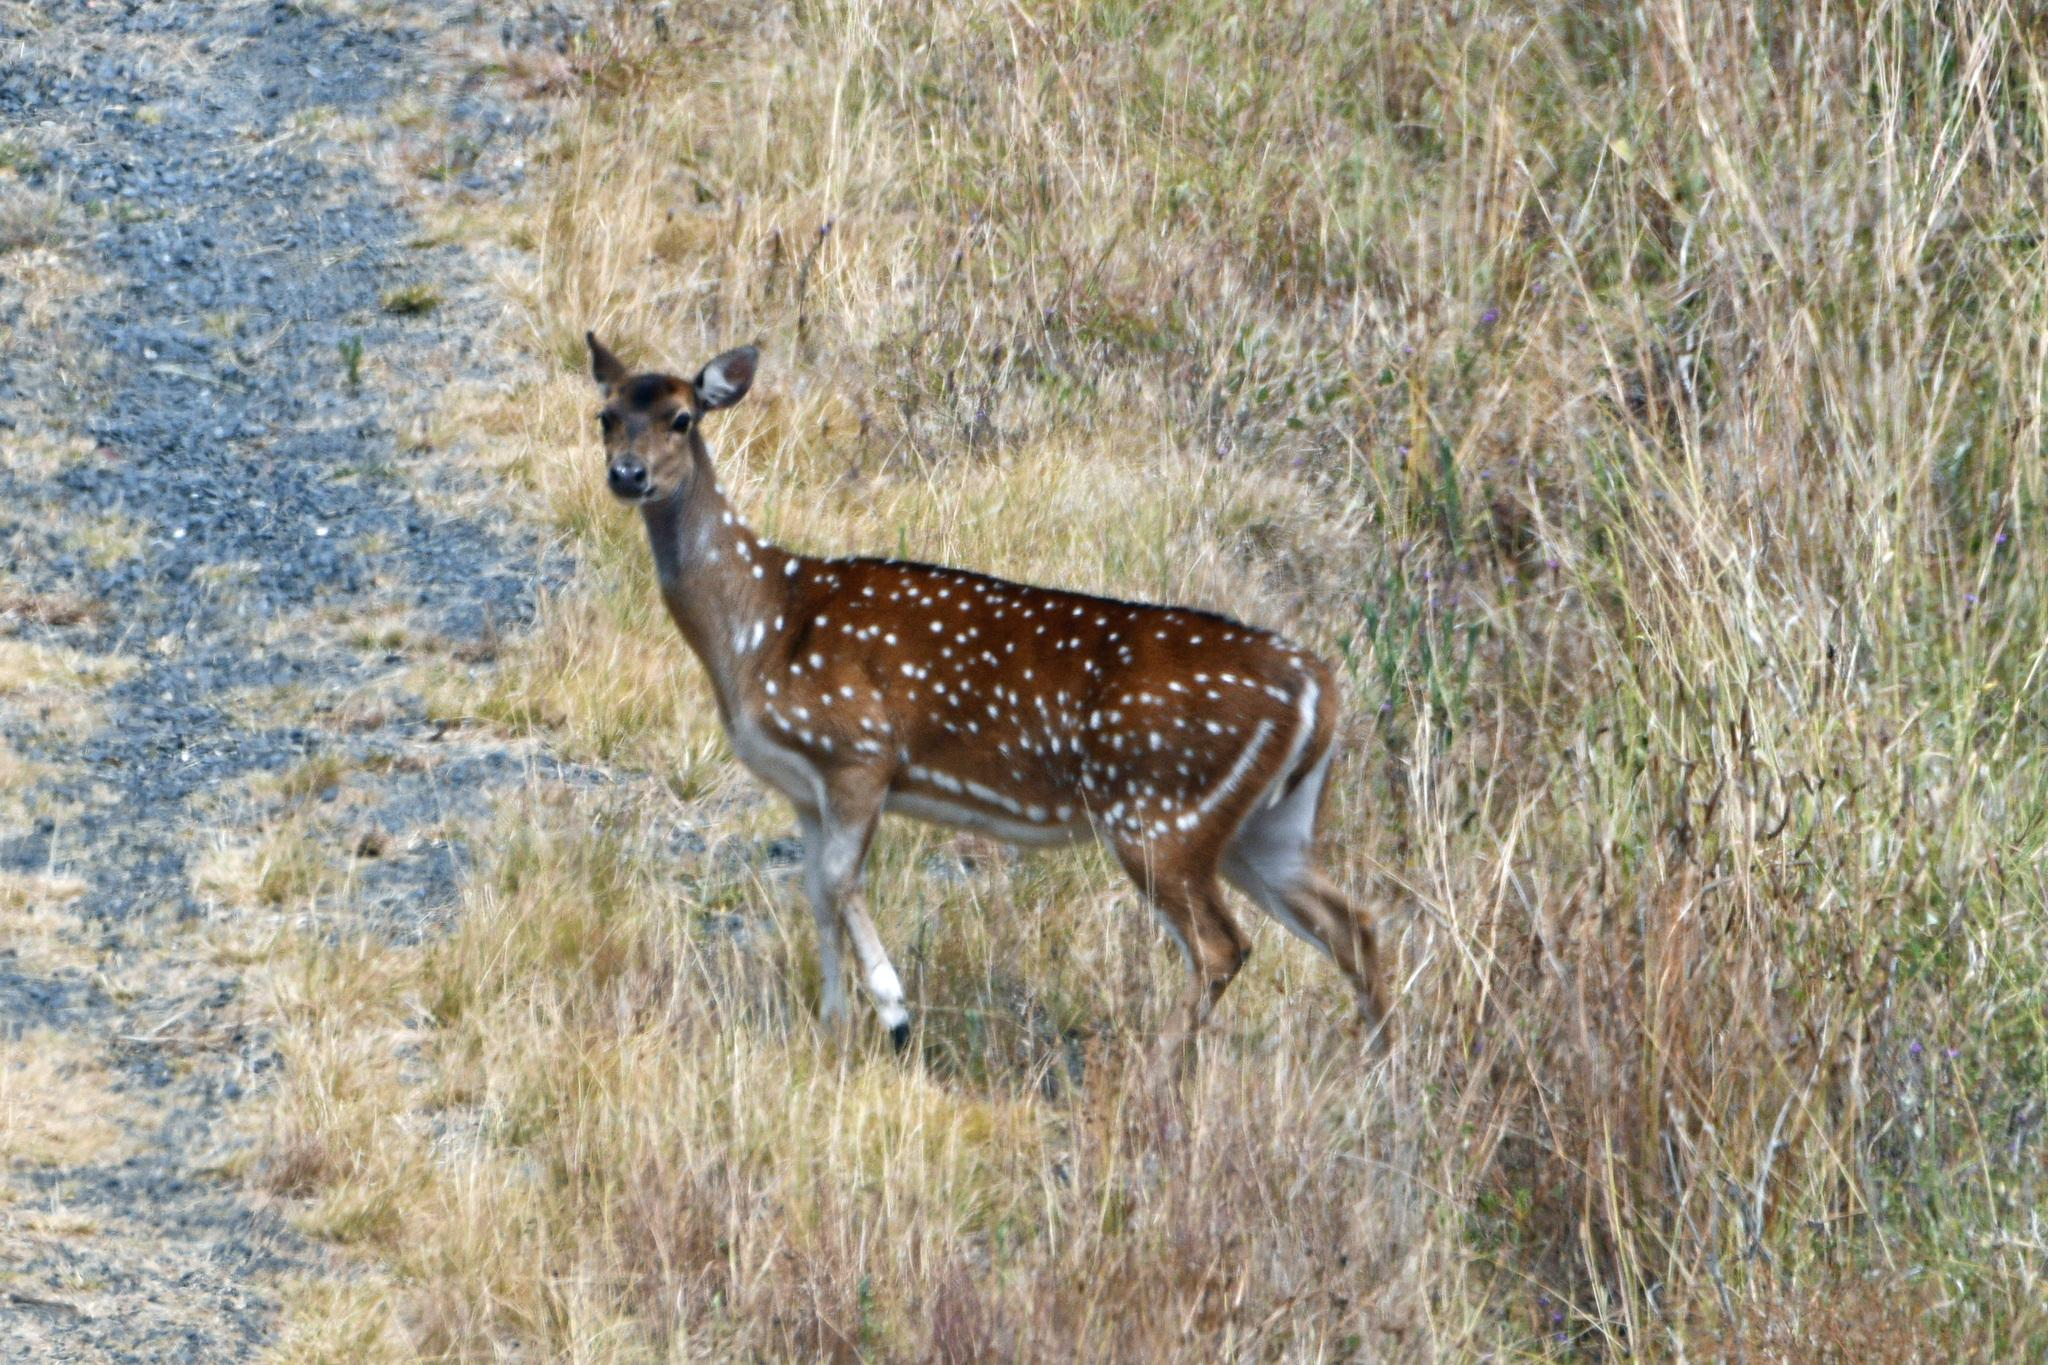Deer: (588, 334, 1389, 1044)
